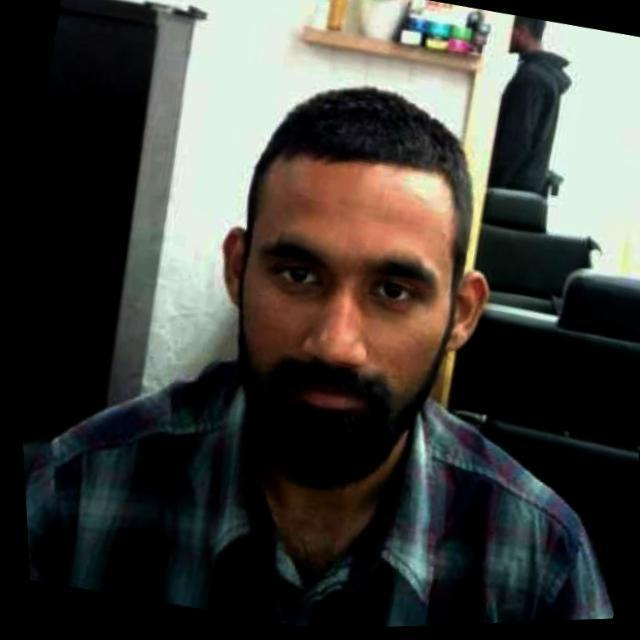puffy_eyes: (361, 299, 406, 318), (270, 281, 314, 297)
